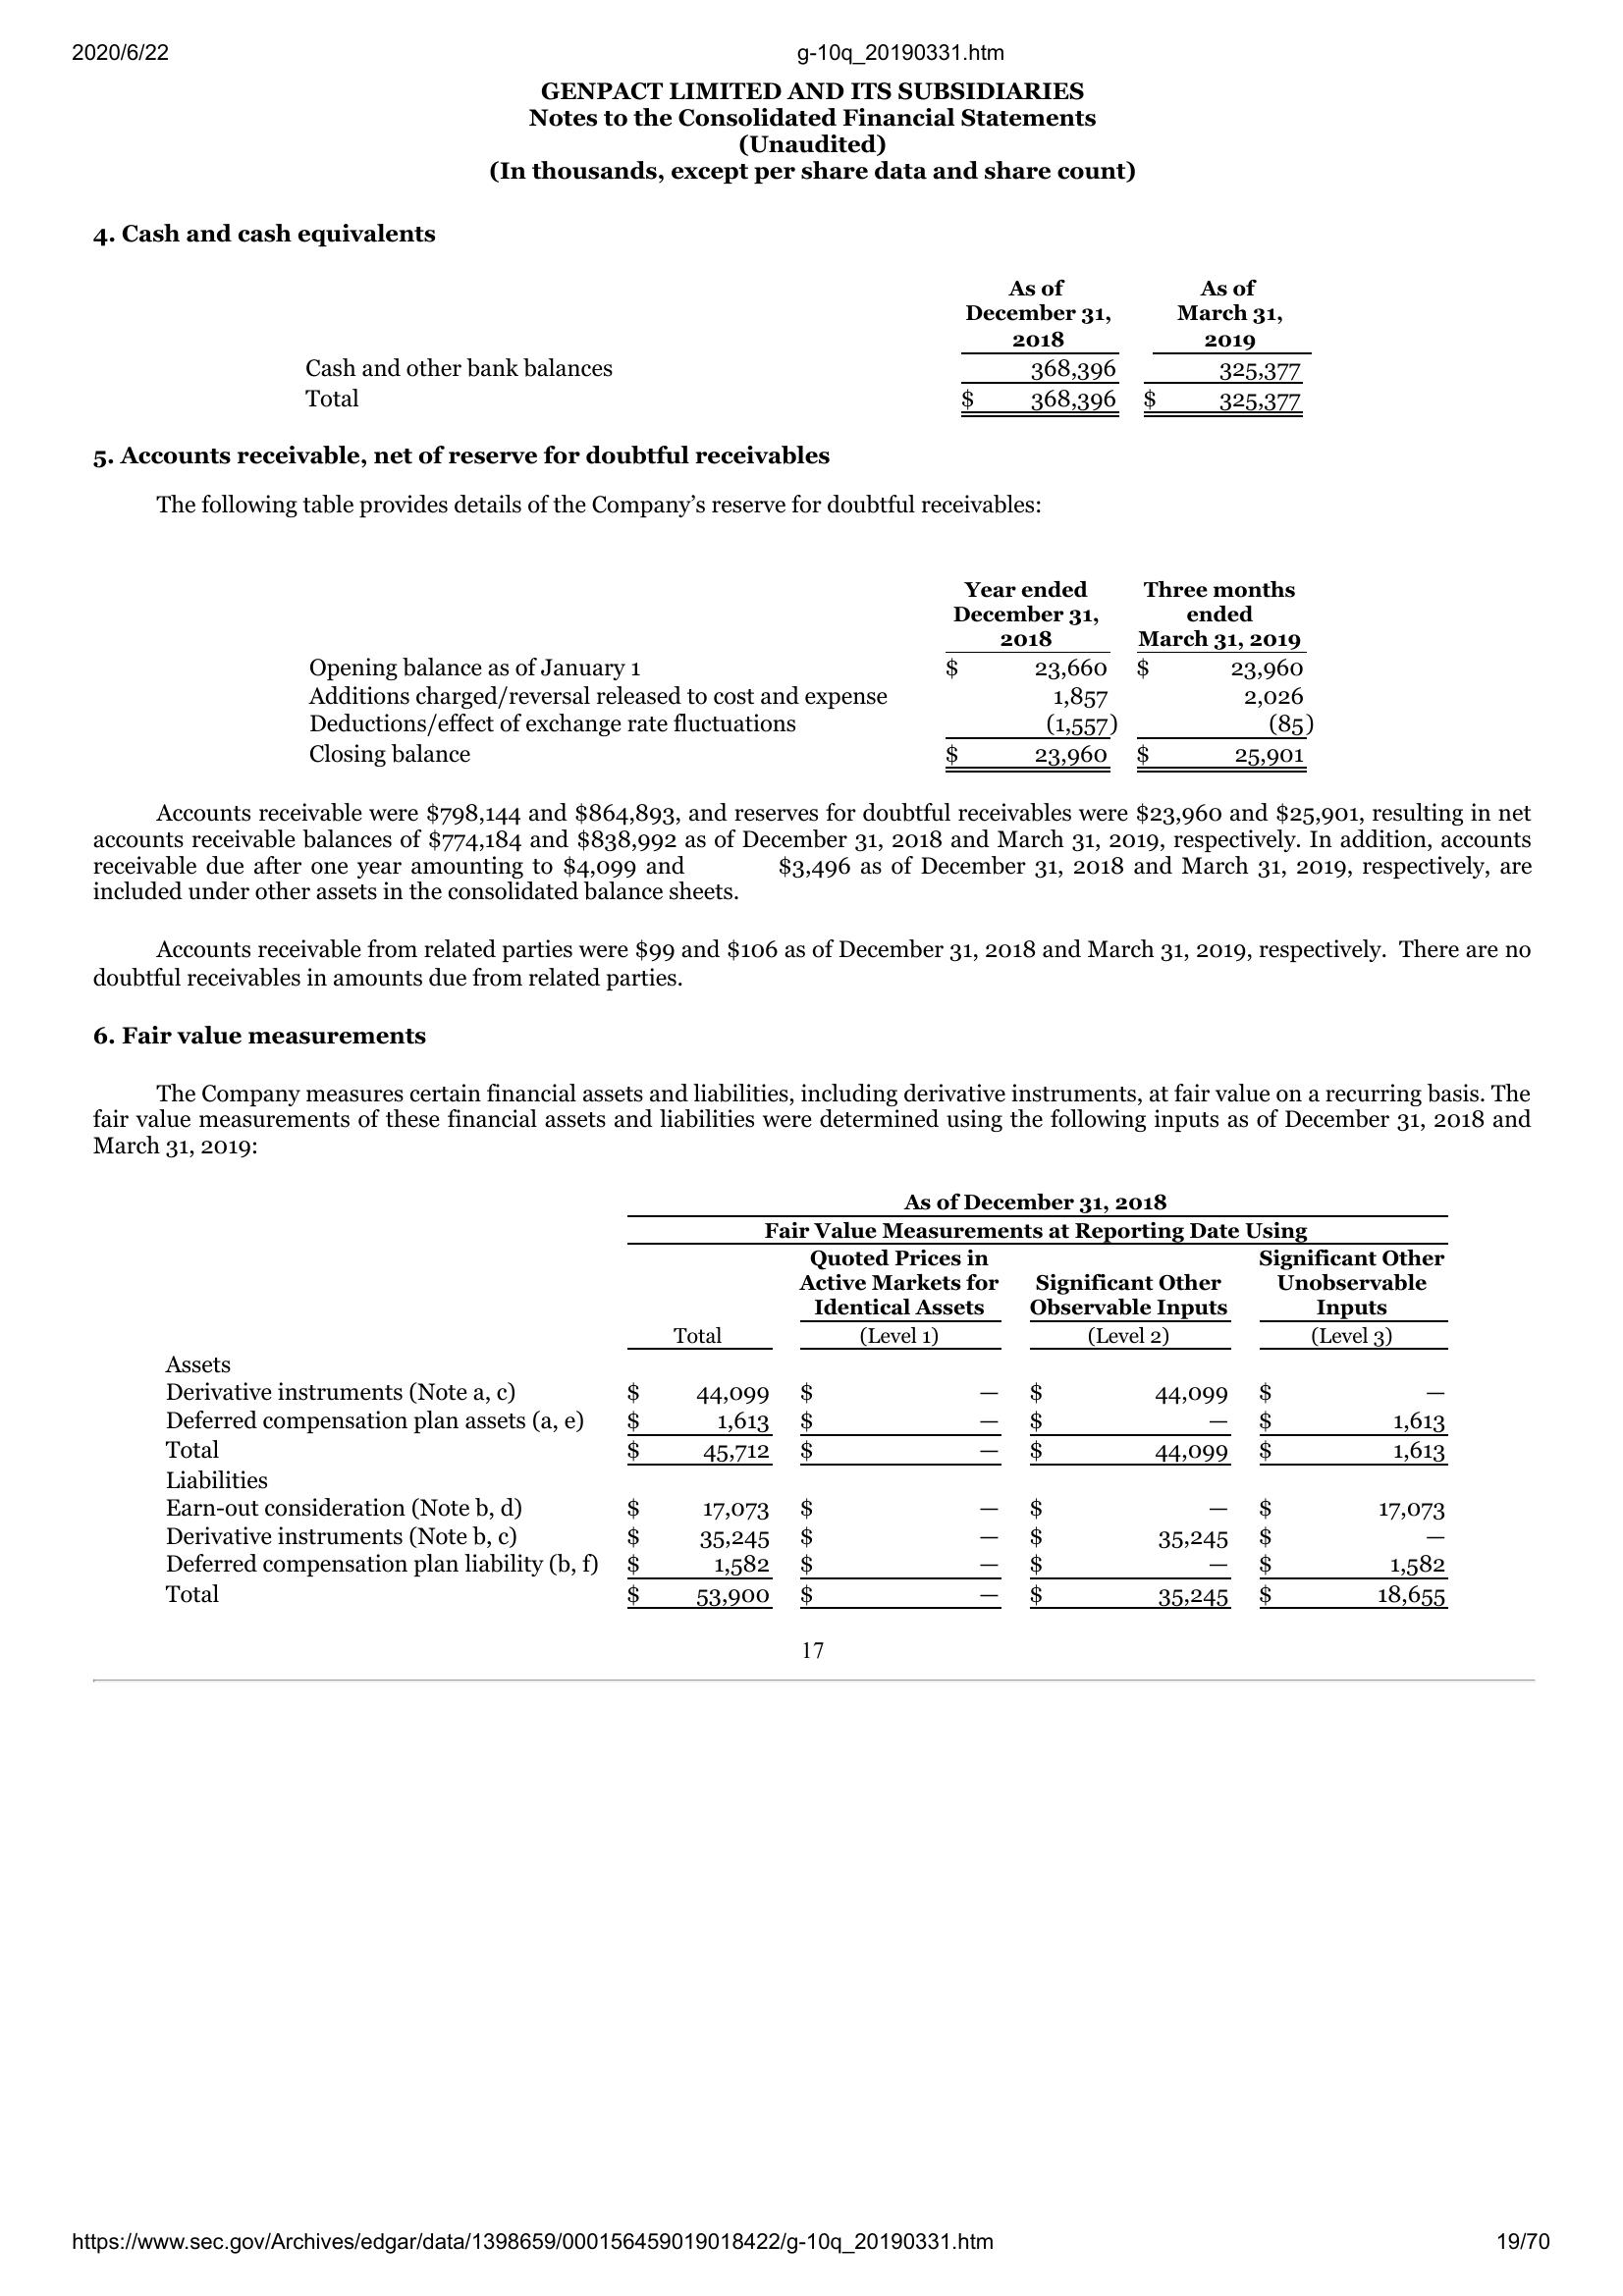table: (156, 1183, 1453, 1615), (304, 560, 1317, 778), (288, 269, 1312, 428)
